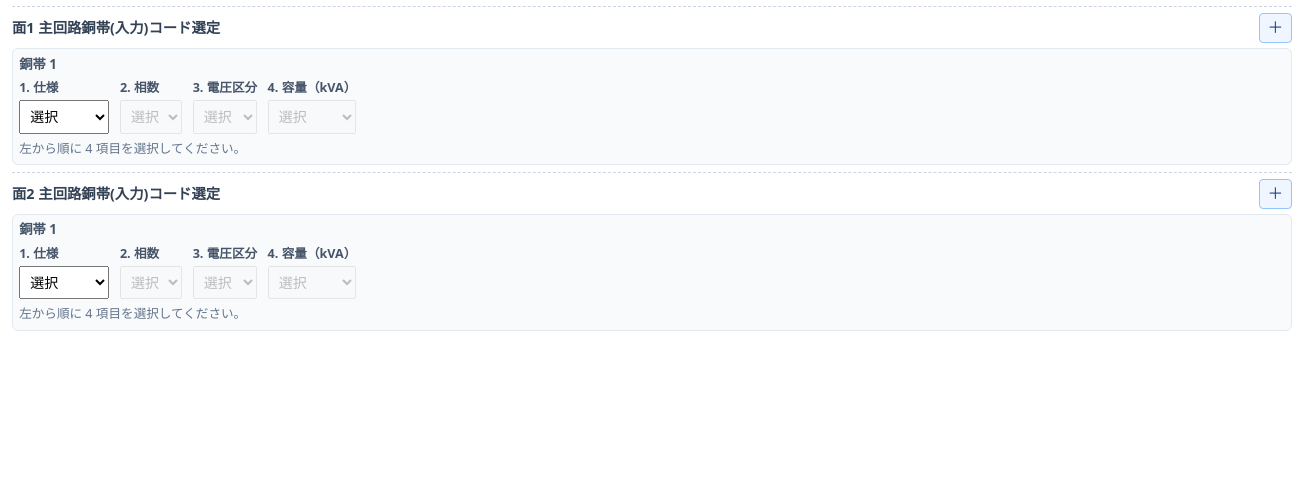
BusbarSelector › keeps rows of different faces independent (separate instances)
This screenshot has width=1304, height=491.
Select "標準仕様" in the dropdown named "面1 銅帯1 仕様" at x=64, y=117, box [19,100,109,134]
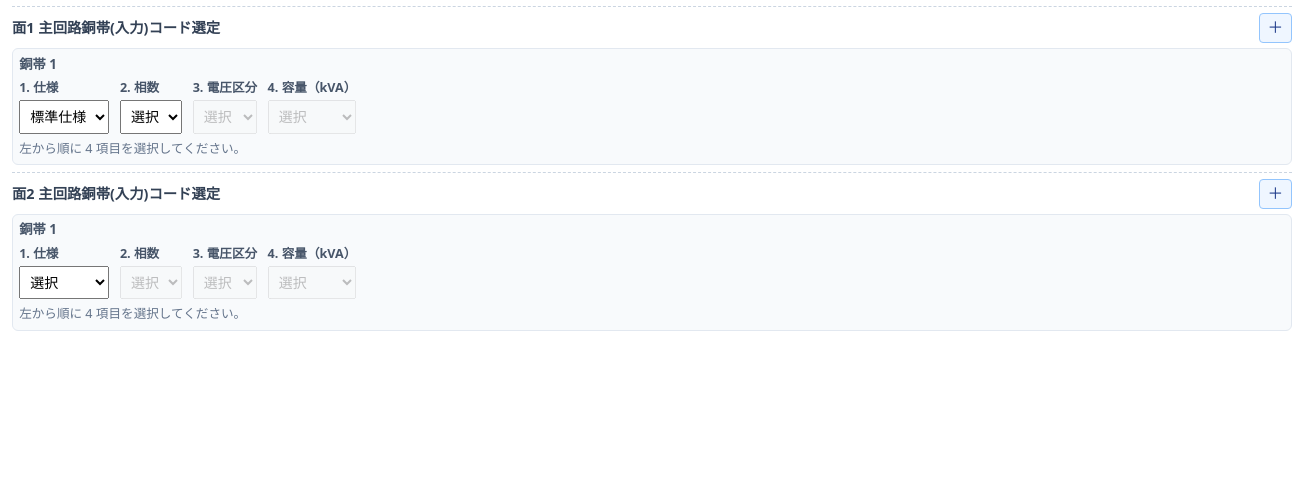
Click the button named "面2に銅帯の選択行を追加" at x=1275, y=194, box [1258,179,1292,209]
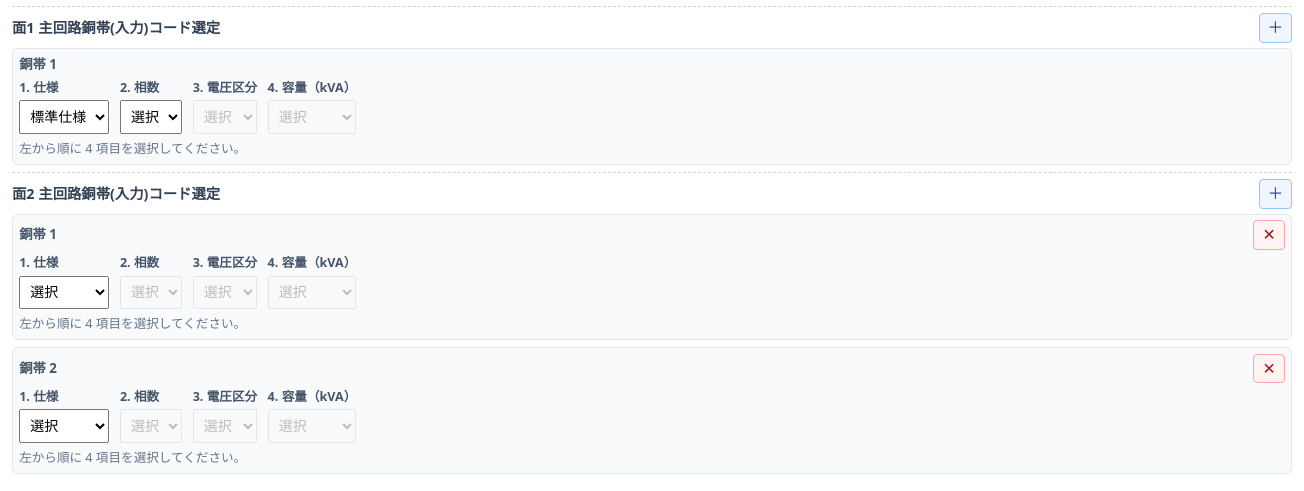
Expected: the dropdown named "面2 銅帯1 仕様" shows "選択", [19,276,109,309]
Now the dropdown named "面2 銅帯2 仕様" shows "選択", box [19,409,109,443]
